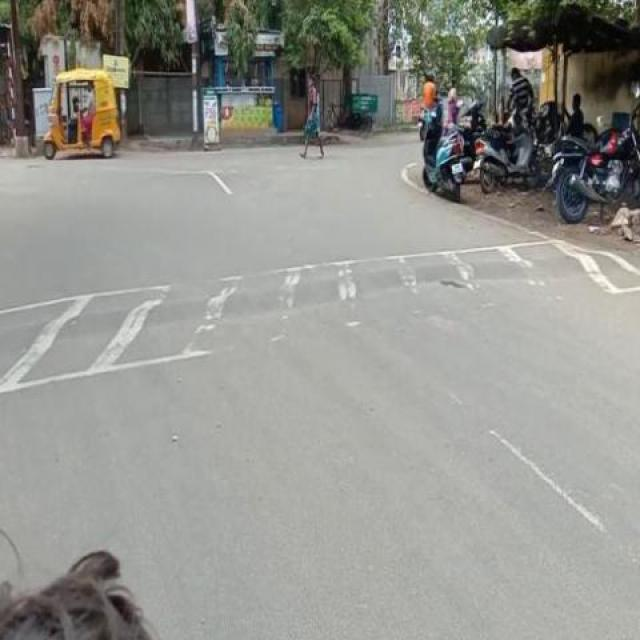Pothole: (434, 270, 470, 298)
Speed Bump: (0, 246, 625, 378)
